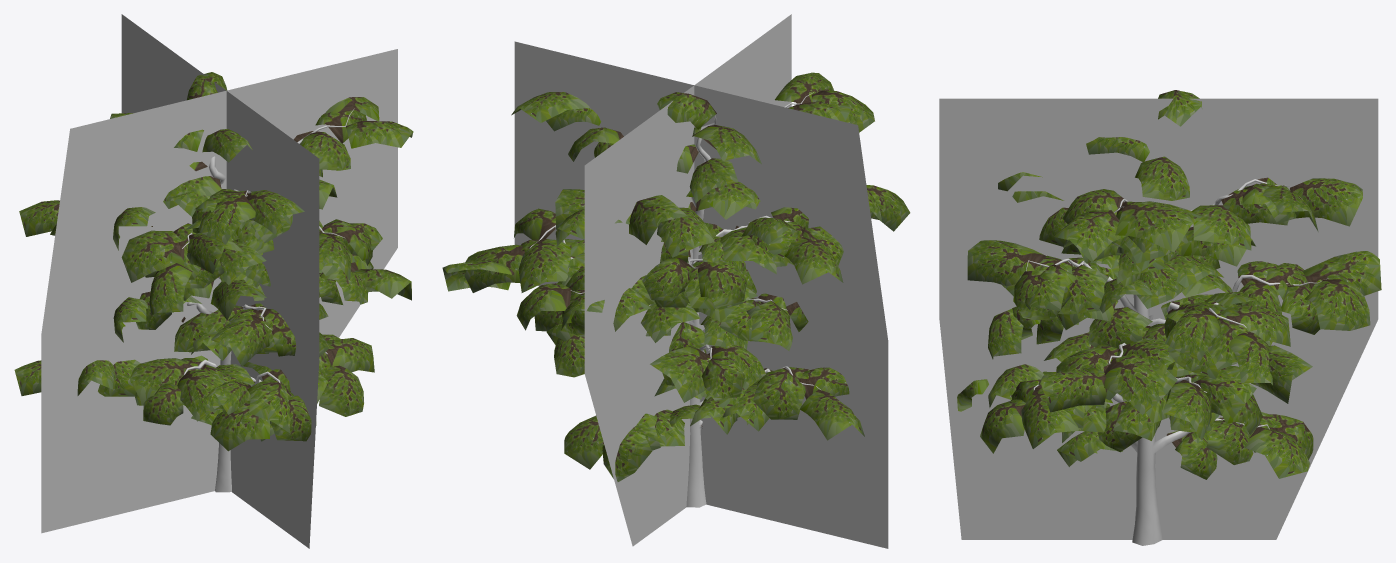
File: Mango1.fbx
The picture shows the model from 3 angles, left to right: view 1: azimuth 30°, elevation 25°; view 2: azimuth 150°, elevation 25°; view 3: azimuth 270°, elevation 25°; orthographic projection. The views are drawn at different scales.
Visible parts, largest first — view 1: Billboard, LOD0; view 2: Billboard, LOD0; view 3: Billboard, LOD0.
Boxes of the visible parts, x1=… form: Billboard: x1=41, y1=14, x2=397, y2=548; LOD0: x1=14, y1=72, x2=413, y2=492; Billboard: x1=514, y1=14, x2=888, y2=548; LOD0: x1=442, y1=72, x2=910, y2=507; Billboard: x1=939, y1=98, x2=1378, y2=539; LOD0: x1=957, y1=90, x2=1381, y2=545.
Size of what is drawn, in the model's own units: 521 by 555 by 499.
